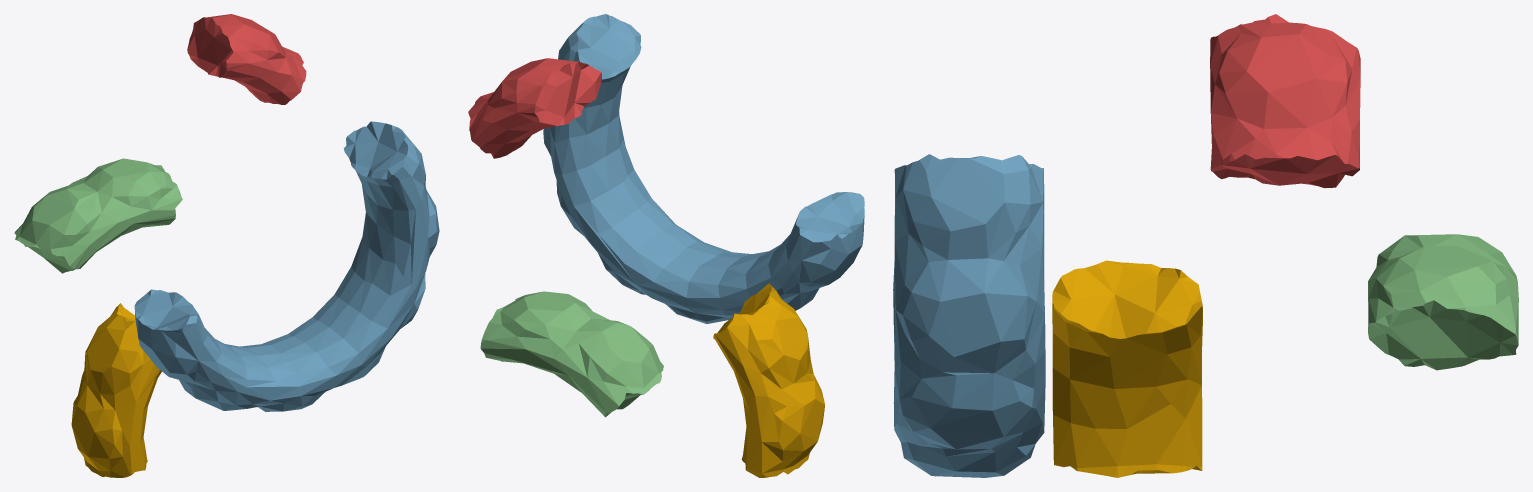
The model's file is fractured_18_4pcs_transformed.glb.
The picture shows the model from 3 angles, left to right: view 1: azimuth 30°, elevation 25°; view 2: azimuth 150°, elevation 25°; view 3: azimuth 270°, elevation 25°; orthographic projection. The views are drawn at different scales.
Visible parts, largest first — view 1: piece_2.obj, piece_3.obj, piece_0.obj, piece_1.obj; view 2: piece_2.obj, piece_0.obj, piece_3.obj, piece_1.obj; view 3: piece_2.obj, piece_0.obj, piece_1.obj, piece_3.obj.
Part boxes in pixels (x1,y1,x2,y2): piece_2.obj: [134, 121, 439, 411]; piece_3.obj: [14, 158, 182, 273]; piece_0.obj: [71, 303, 161, 477]; piece_1.obj: [187, 14, 306, 104]; piece_2.obj: [543, 14, 864, 323]; piece_0.obj: [713, 283, 824, 477]; piece_3.obj: [480, 291, 663, 417]; piece_1.obj: [468, 58, 601, 158]; piece_2.obj: [893, 154, 1045, 477]; piece_0.obj: [1052, 260, 1202, 477]; piece_1.obj: [1210, 14, 1360, 188]; piece_3.obj: [1368, 234, 1518, 370].
Bounding box in the file's own units: 0.9998 × 1.21 × 1.19.
